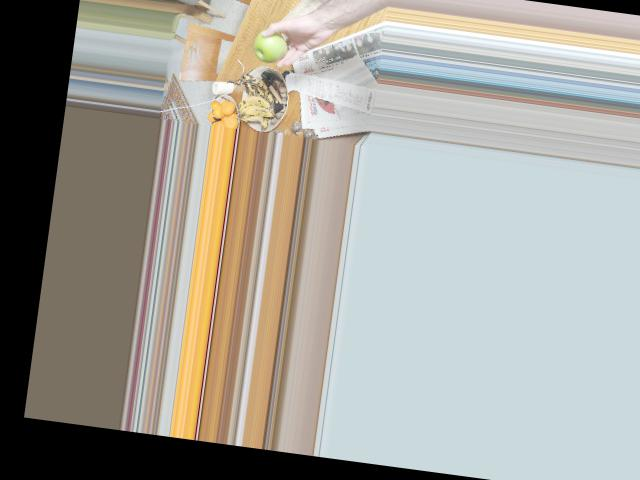apple: (249, 24, 295, 66)
